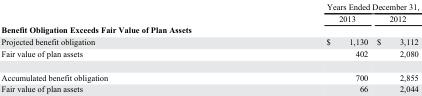table: (0, 1, 418, 93)
table column: (0, 1, 216, 93), (216, 1, 371, 93), (371, 1, 418, 93)
table column header: (0, 1, 418, 23)
table projected row header: (0, 23, 418, 35)
table row: (0, 47, 418, 65), (0, 65, 418, 82), (0, 23, 418, 35), (0, 35, 418, 47), (0, 1, 418, 12), (0, 12, 418, 23), (0, 82, 418, 93)
table spanning cell: (216, 1, 418, 12)
